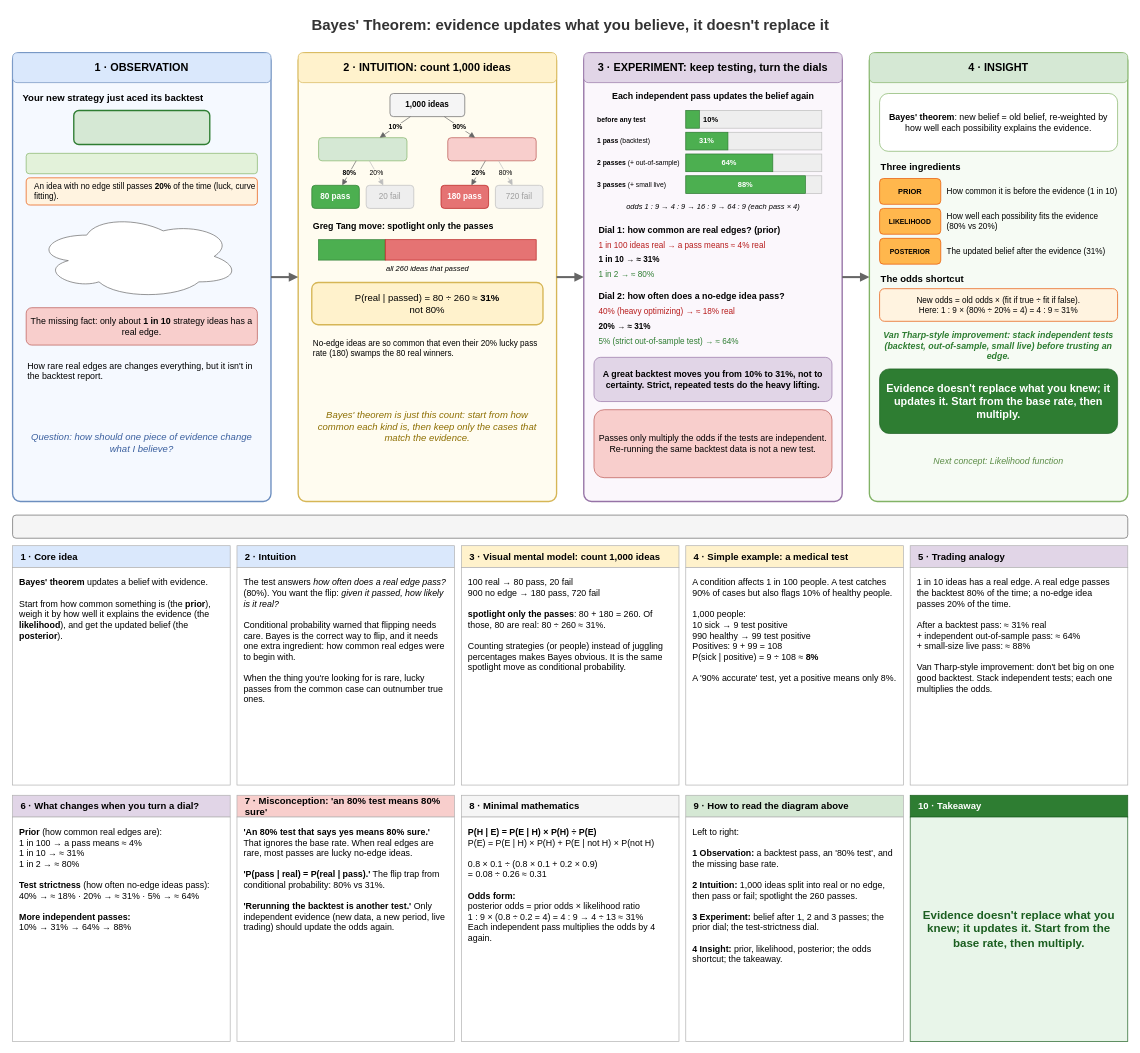
Some shapes in this 1140 by 1053 pixel diagram are drawn without their labels. Here are the shapes that lost their labels. From the top down, the box of each, then its label:
(73, 109, 210, 145): BACKTEST: PASS
(26, 153, 257, 174): A real edge passes this test 80% of the time.
(318, 137, 407, 161): 100 real edges
(447, 137, 536, 161): 900 no edge
(35, 213, 240, 299): An 80% test said yes... so I'm 80% sure it's real?
(318, 239, 385, 260): 80 real
(385, 239, 536, 260): 180 lucky (no edge)
(12, 514, 1128, 538): LESSON NOTES: the full explanation, for future reference
